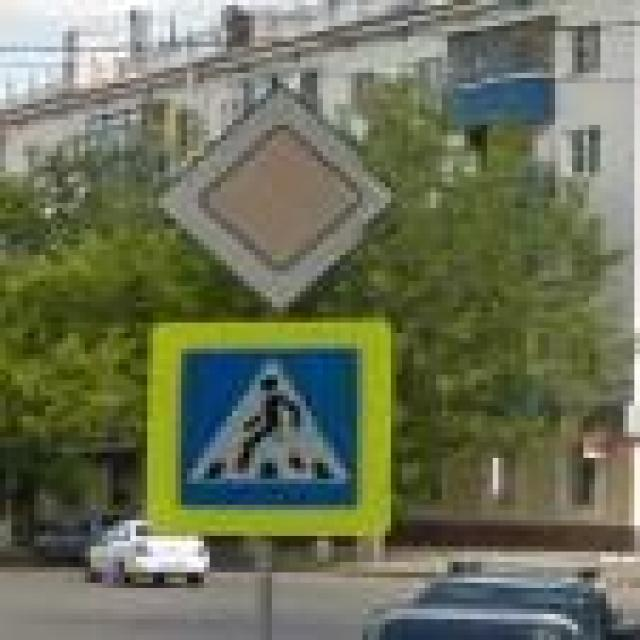traffic_sign: (153, 83, 402, 312), (148, 317, 396, 536)
